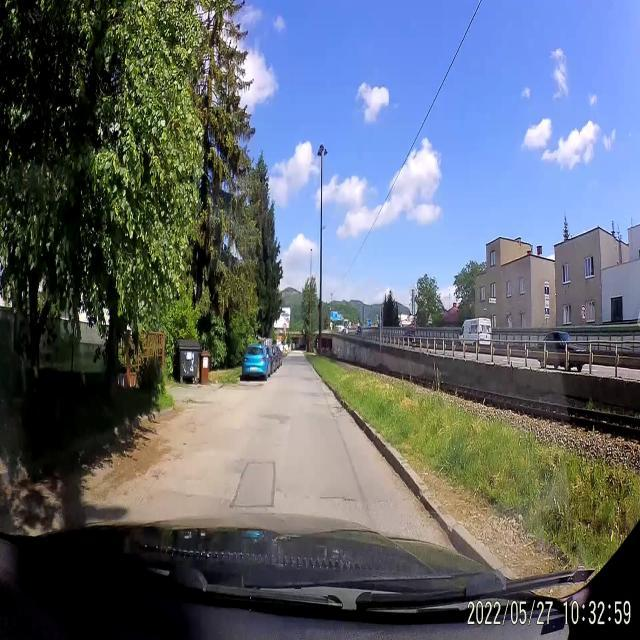Pothole: (328, 390, 346, 426)
